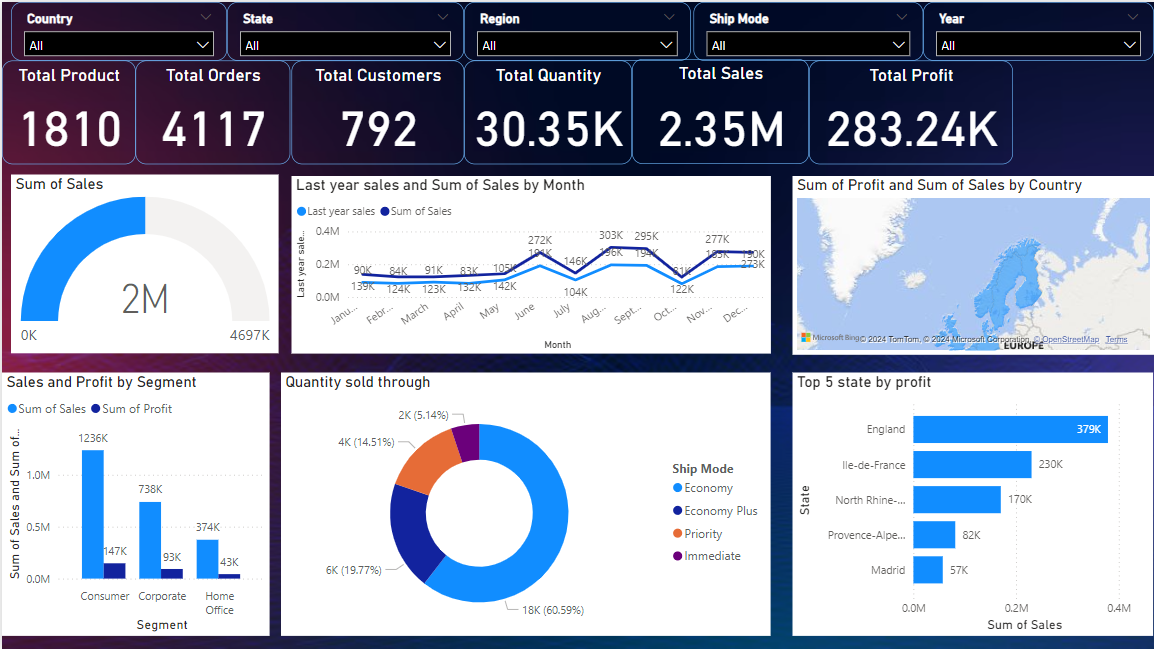

What the dashboard file says about the page in this screenshot:
{"tool":"powerbi","page":{"name":"SALES DATA PROJECT","canvas":[1280,720],"ordinal":0},"visuals":[{"type":"slicer","fields":{"Values":["ListOfOrders.Country"]},"box":[10,0,240,65],"z":0},{"type":"slicer","fields":{"Values":["ListOfOrders.State"]},"box":[250,0,263.3,65],"z":1000},{"type":"slicer","fields":{"Values":["ListOfOrders.Region"]},"box":[513.3,0,251.7,65],"z":2000},{"type":"slicer","fields":{"Values":["ListOfOrders.Ship Mode"]},"box":[768.3,0,255,65],"z":3000},{"type":"slicer","fields":{"Values":["ListOfOrders.Ship Date.Variation.Date Hierarchy.Year"]},"box":[1023.3,0,256.7,65],"z":4000},{"type":"card","title":"Total Product ","fields":{"Values":["Count(OrderBreakdown.Product Name)"]},"box":[0,65,148.3,115],"z":5000},{"type":"card","title":"Total Orders","fields":{"Values":["CountNonNull(ListOfOrders.Order ID)"]},"box":[148.3,65,171.7,115],"z":6000},{"type":"card","title":"Total Customers","fields":{"Values":["Count(ListOfOrders.Customer Name)"]},"box":[321.7,65,191.7,115],"z":7000},{"type":"card","title":"Total Quantity","fields":{"Values":["Sum(OrderBreakdown.Quantity)"]},"box":[513.3,65,186.7,115],"z":8000},{"type":"card","title":"Total Sales","fields":{"Values":["Sum(OrderBreakdown.Sales)"]},"box":[700,63.3,196.7,116.7],"z":9000},{"type":"card","title":"Total Profit","fields":{"Values":["Sum(OrderBreakdown.Profit)"]},"box":[896.7,65,226.7,115],"z":10000},{"type":"filledMap","fields":{"Category":["ListOfOrders.Country"]},"box":[878,194.1,402.4,198.8],"z":11000},{"type":"gauge","fields":{"Y":["Sum(OrderBreakdown.Sales)"]},"box":[9.5,192.5,297.4,198.8],"z":12000},{"type":"lineChart","fields":{"Category":["ListOfOrders.Order Date.Variation.Date Hierarchy.Year","ListOfOrders.Order Date.Variation.Date Hierarchy.Quarter","ListOfOrders.Order Date.Variation.Date Hierarchy.Month","ListOfOrders.Order Date.Variation.Date Hierarchy.Day"],"Y":["OrderBreakdown.Last year sales","Sum(OrderBreakdown.Sales)"]},"box":[321.3,194.1,532.9,197.2],"z":13000},{"type":"clusteredColumnChart","title":" Sales and Profit by Segment","fields":{"Category":["ListOfOrders.Segment"],"Y":["Sum(OrderBreakdown.Sales)","Sum(OrderBreakdown.Profit)"]},"box":[0,412,297.4,292.7],"z":14000},{"type":"donutChart","title":" Quantity sold through ","fields":{"Category":["ListOfOrders.Ship Mode"],"Y":["Sum(OrderBreakdown.Quantity)"]},"box":[310.2,412,544,292.7],"z":15000},{"type":"clusteredBarChart","title":"Top 5 state by profit","fields":{"Category":["ListOfOrders.State"],"Y":["Sum(OrderBreakdown.Sales)"]},"box":[878,412,400.8,292.7],"z":16000}]}

Visuals, with their boxes in screenshot pixels (x1, y1, x2, y2), scaled from the page's 1280x720 canvas onto the 1154x649 screenshot:
slicer - ListOfOrders.Country: (x1=9, y1=0, x2=225, y2=59)
slicer - ListOfOrders.State: (x1=225, y1=0, x2=463, y2=59)
slicer - ListOfOrders.Region: (x1=463, y1=0, x2=690, y2=59)
slicer - ListOfOrders.Ship Mode: (x1=693, y1=0, x2=923, y2=59)
slicer - ListOfOrders.Ship Date.Variation.Date Hierarchy.Year: (x1=923, y1=0, x2=1153, y2=59)
"Total Product " card: (x1=0, y1=59, x2=134, y2=162)
"Total Orders" card: (x1=134, y1=59, x2=288, y2=162)
"Total Customers" card: (x1=290, y1=59, x2=463, y2=162)
"Total Quantity" card: (x1=463, y1=59, x2=631, y2=162)
"Total Sales" card: (x1=631, y1=57, x2=808, y2=162)
"Total Profit" card: (x1=808, y1=59, x2=1013, y2=162)
filledMap - ListOfOrders.Country: (x1=792, y1=175, x2=1153, y2=354)
gauge - Sum(OrderBreakdown.Sales): (x1=9, y1=174, x2=277, y2=353)
lineChart - ListOfOrders.Order Date.Variation.Date Hierarchy.Year x ListOfOrders.Order Date.Variation.Date Hierarchy.Quarter: (x1=290, y1=175, x2=770, y2=353)
" Sales and Profit by Segment" clusteredColumnChart: (x1=0, y1=371, x2=268, y2=635)
" Quantity sold through " donutChart: (x1=280, y1=371, x2=770, y2=635)
"Top 5 state by profit" clusteredBarChart: (x1=792, y1=371, x2=1153, y2=635)
